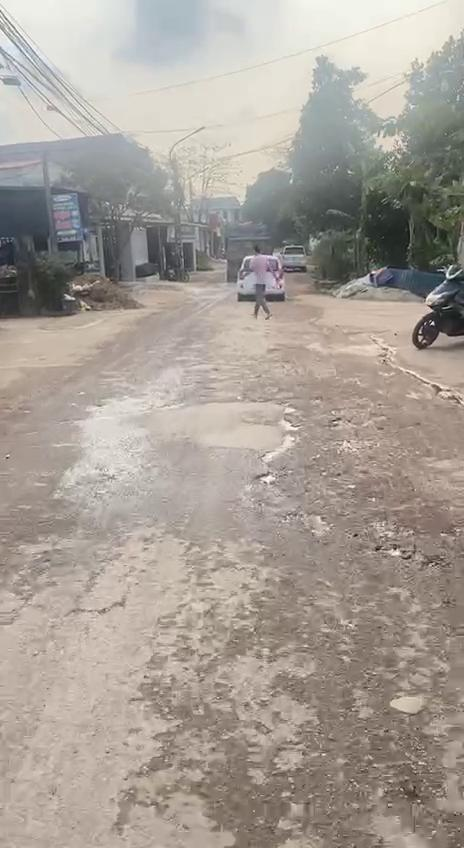pothole: (360, 717, 464, 842), (366, 513, 450, 570), (250, 401, 300, 488), (296, 512, 334, 542)
